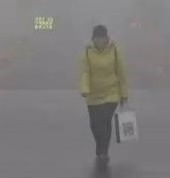person: (78, 24, 128, 166)
